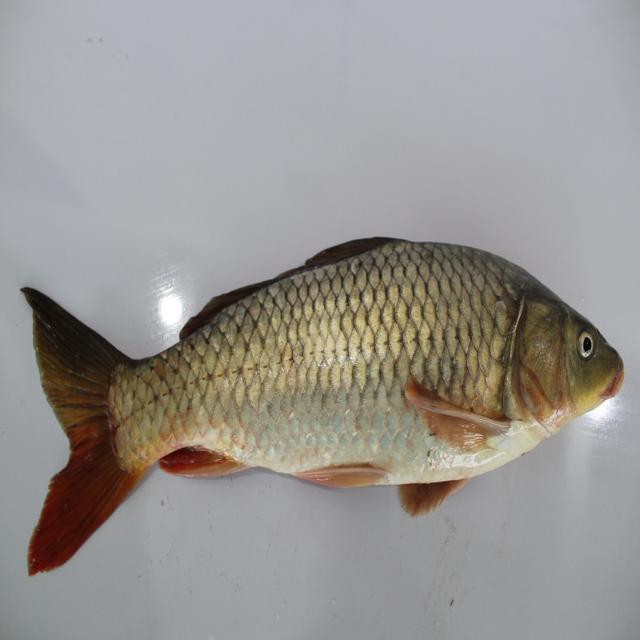CommonCarp: (20, 227, 629, 595)
